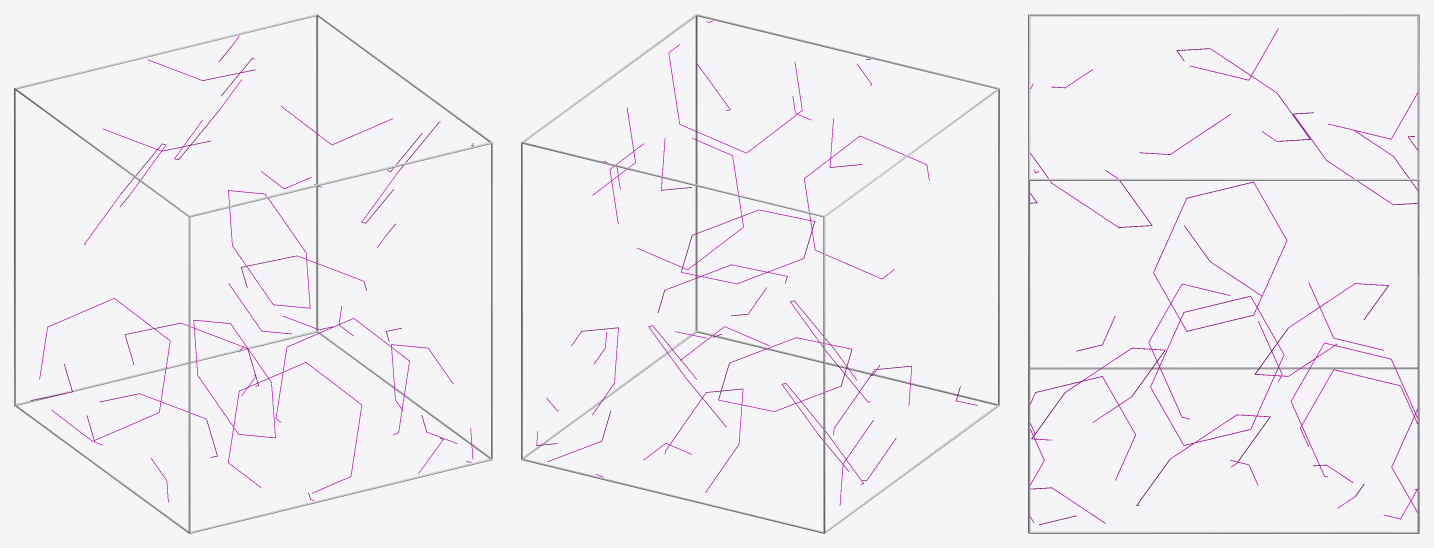
File: ddd000.glb
3 views of the same model, side by side, from view 1: azimuth 30°, elevation 25°; view 2: azimuth 150°, elevation 25°; view 3: azimuth 270°, elevation 25° (orthographic). The views are drawn at different scales.
Parts seen in each view (by area): view 1: Shape_IndexedLineSet, Shape_IndexedLineSet.001; view 2: Shape_IndexedLineSet, Shape_IndexedLineSet.001; view 3: Shape_IndexedLineSet, Shape_IndexedLineSet.001.
Boxes of the visible parts, box(x1,y1,x2,y2) form: Shape_IndexedLineSet: box(14, 14, 492, 533); Shape_IndexedLineSet.001: box(30, 35, 473, 502); Shape_IndexedLineSet: box(521, 14, 999, 533); Shape_IndexedLineSet.001: box(536, 21, 977, 505); Shape_IndexedLineSet: box(1028, 14, 1419, 533); Shape_IndexedLineSet.001: box(1030, 28, 1417, 524).
Bounding box in the file's own units: 10.06 × 10.06 × 10.06.
